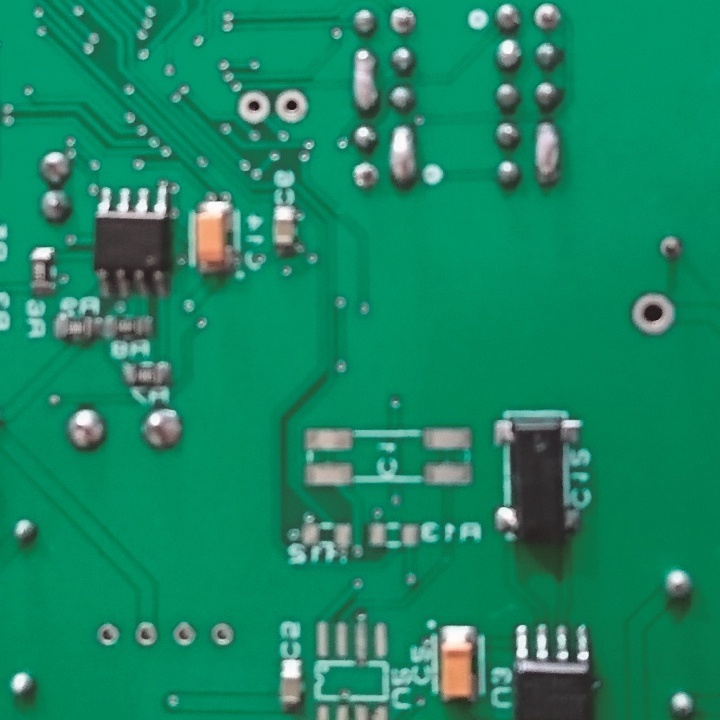F: (633, 291, 676, 337), (236, 86, 273, 126), (273, 87, 306, 123), (387, 6, 419, 39), (350, 160, 380, 195), (93, 620, 121, 649), (531, 5, 561, 32), (170, 618, 196, 649), (656, 232, 684, 260), (131, 619, 158, 648), (209, 620, 233, 649)
P: (385, 120, 416, 188), (351, 47, 380, 115), (533, 120, 562, 186)
